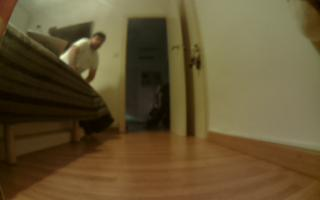person: (62, 19, 120, 83)
